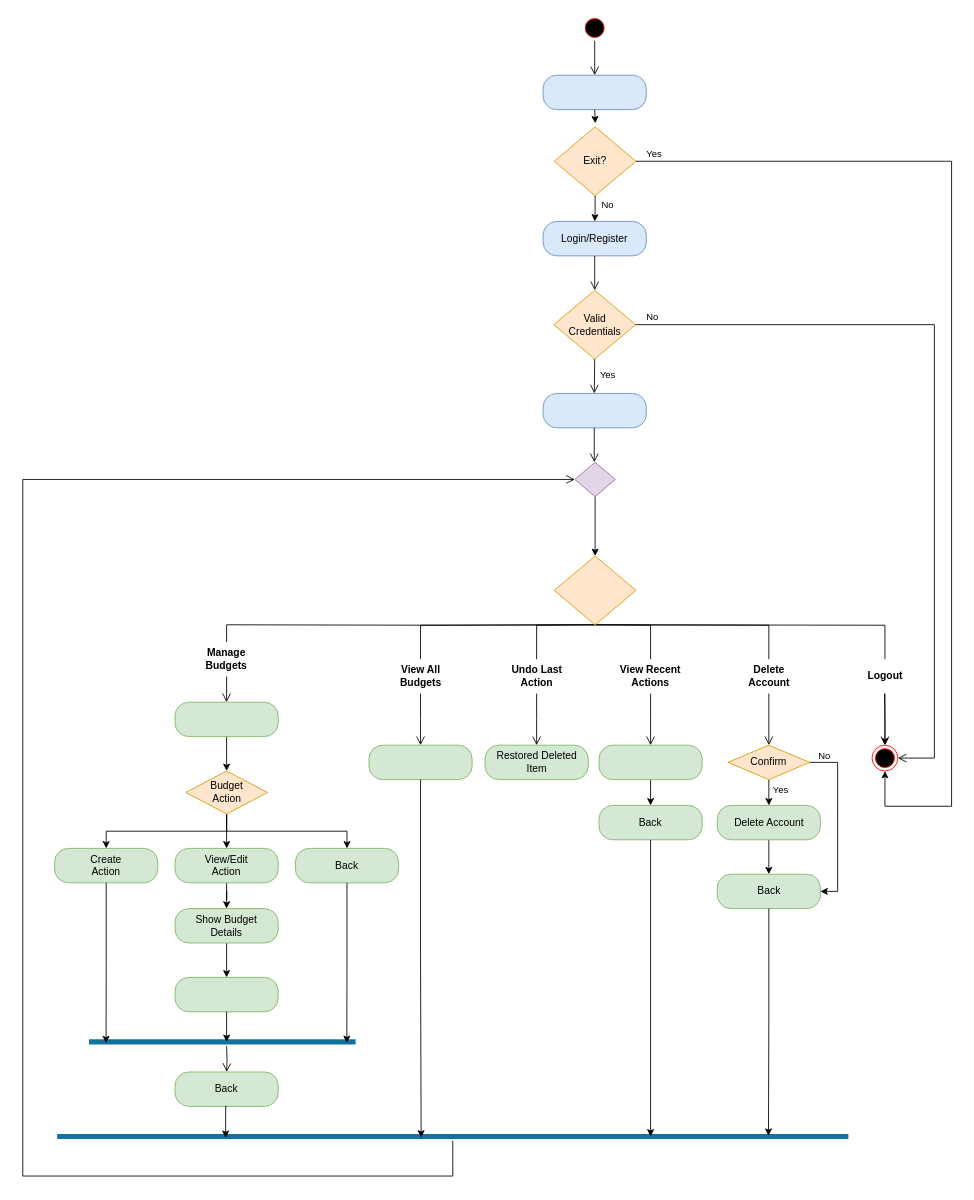
Image size: 974x1200. Some labels were removed from this diagram. Each missing label, with the centre of its shape:
"Budget Management" belongs at [226,719].
"Dashboard Selection" belongs at [594,590].
"Display Recent Actions List" belongs at [650,762].
"Manage Budget Expenses" belongs at [226,994].
"Show Dashboard" belongs at [594,410].
"View All Expenses" belongs at [420,762].
"Welcome Screen" belongs at [594,92].
